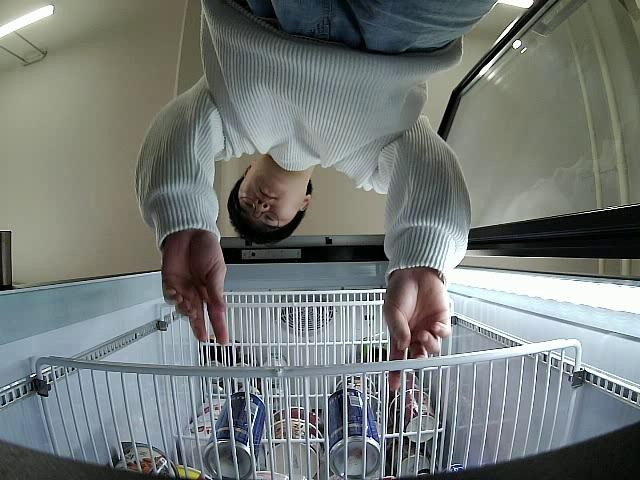00_hand: (382, 277, 452, 394), (161, 244, 230, 344)
